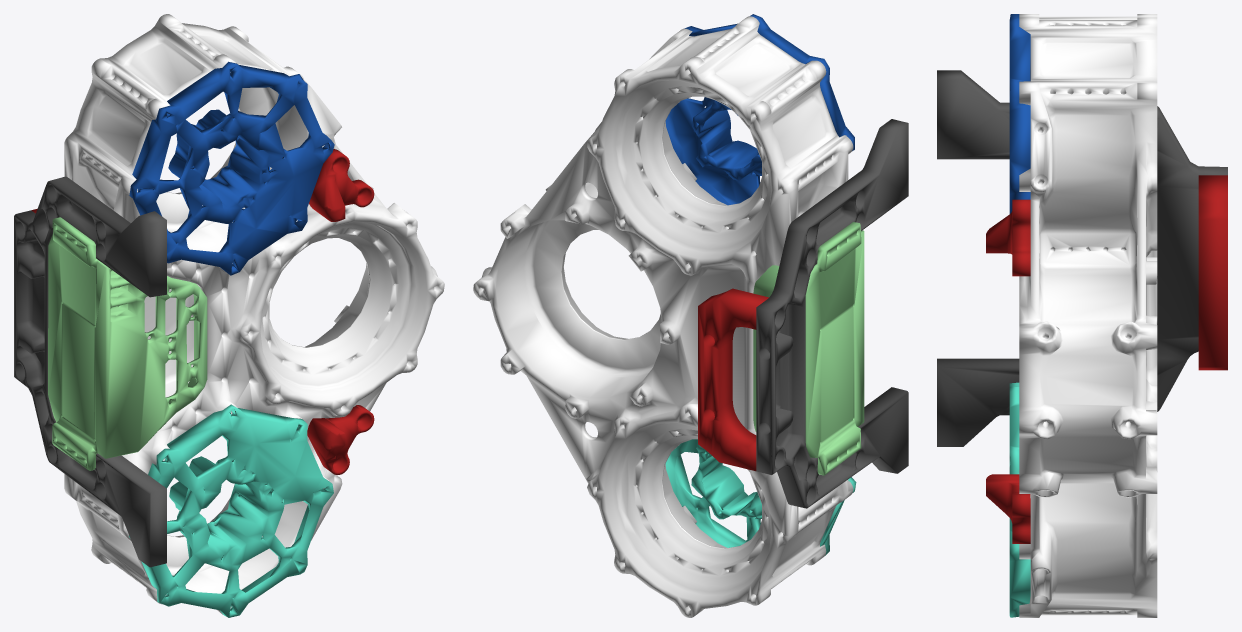
The model's file is pelvis.obj.
The picture shows the model from 3 angles, left to right: view 1: azimuth 30°, elevation 25°; view 2: azimuth 150°, elevation 25°; view 3: azimuth 270°, elevation 25°; orthographic projection. The views are drawn at different scales.
Bounding box in the file's own units: 0.239 × 0.3718 × 0.1649.
